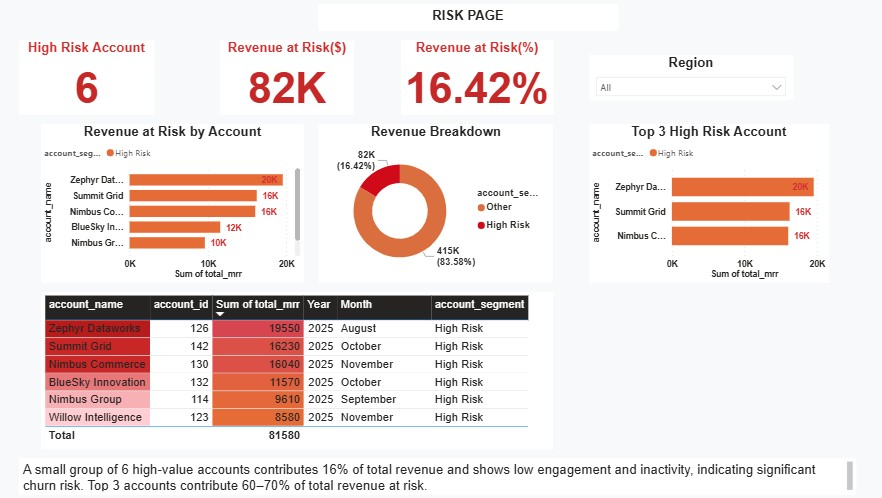

The dashboard page shown, as its layout file describes it:
{"tool":"powerbi","page":{"name":"RISK PAGE","canvas":[1280,720],"ordinal":3},"visuals":[{"type":"card","title":"High Risk Account","fields":{"Values":["measure.High Risk Accounts"]},"box":[43.8,64.9,190.6,105.9],"z":0},{"type":"tableEx","fields":{"Values":["accounts.account_name","saas.account_id","Sum(saas.total_mrr)","saas.last_activity.Variation.Date Hierarchy.Year","saas.last_activity.Variation.Date Hierarchy.Month","saas.account_segment"]},"box":[74.8,420.7,722.8,221.6],"z":1000},{"type":"slicer","title":"Region","fields":{"Values":["accounts.region"]},"box":[848.5,86.1,288,63.5],"z":2000},{"type":"textbox","box":[465.9,14.1,423.5,38.1],"z":3000},{"type":"textbox","box":[43.8,655.1,1181.6,52.2],"z":4000},{"type":"card","title":"Revenue at Risk($)","fields":{"Values":["measure.Revenue at Risk"]},"box":[327.5,64.9,189.2,105.9],"z":5000},{"type":"barChart","title":"Revenue at Risk by Account","fields":{"Y":["Sum(saas.total_mrr)"],"Series":["saas.account_segment"],"Category":["accounts.account_name"]},"box":[74.8,183.5,371.3,224.5],"z":6000},{"type":"donutChart","title":"Revenue Breakdown","fields":{"Y":["Sum(saas.total_mrr)"],"Category":["saas.account_segment"]},"box":[467.3,183.5,330.4,224.5],"z":7000},{"type":"card","title":"Revenue at Risk(%)","fields":{"Values":["measure.Revenue at risk %"]},"box":[583.1,64.9,214.6,105.9],"z":8000},{"type":"barChart","title":"Top 3 High Risk Account","fields":{"Y":["Sum(saas.total_mrr)"],"Category":["accounts.account_name"],"Series":["saas.account_segment"]},"box":[848.5,183.5,338.8,224.5],"z":8001}]}

Visuals, with their boxes in screenshot pixels (x1, y1, x2, y2), scaled from the page's 1280x720 canvas onto the 882x498 screenshot:
"High Risk Account" card: [x1=30, y1=45, x2=162, y2=118]
tableEx - accounts.account_name x saas.account_id: [x1=52, y1=291, x2=550, y2=444]
"Region" slicer: [x1=585, y1=60, x2=783, y2=103]
textbox: [x1=321, y1=10, x2=613, y2=36]
textbox: [x1=30, y1=453, x2=844, y2=489]
"Revenue at Risk($)" card: [x1=226, y1=45, x2=356, y2=118]
"Revenue at Risk by Account" barChart: [x1=52, y1=127, x2=307, y2=282]
"Revenue Breakdown" donutChart: [x1=322, y1=127, x2=550, y2=282]
"Revenue at Risk(%)" card: [x1=402, y1=45, x2=550, y2=118]
"Top 3 High Risk Account" barChart: [x1=585, y1=127, x2=818, y2=282]
